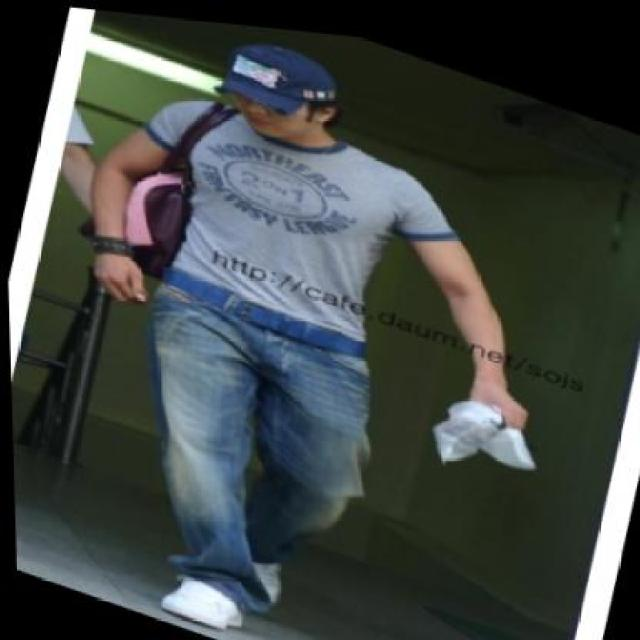hat: (214, 20, 351, 129)
